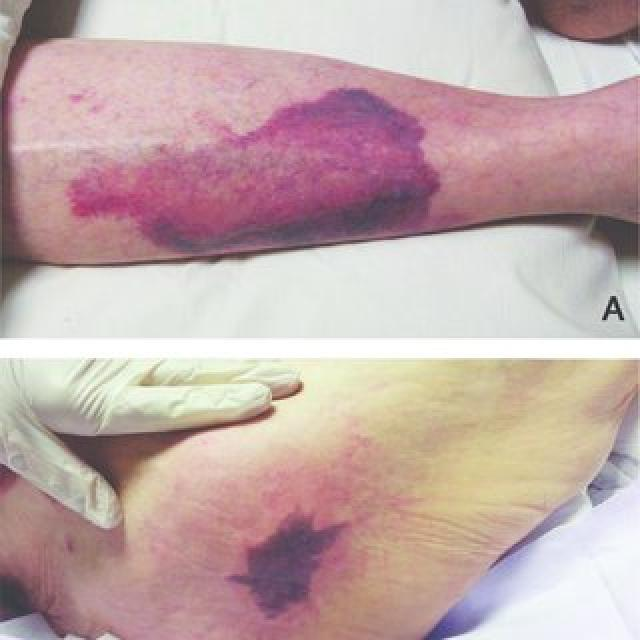DTI: (60, 90, 459, 256), (233, 508, 348, 621)
